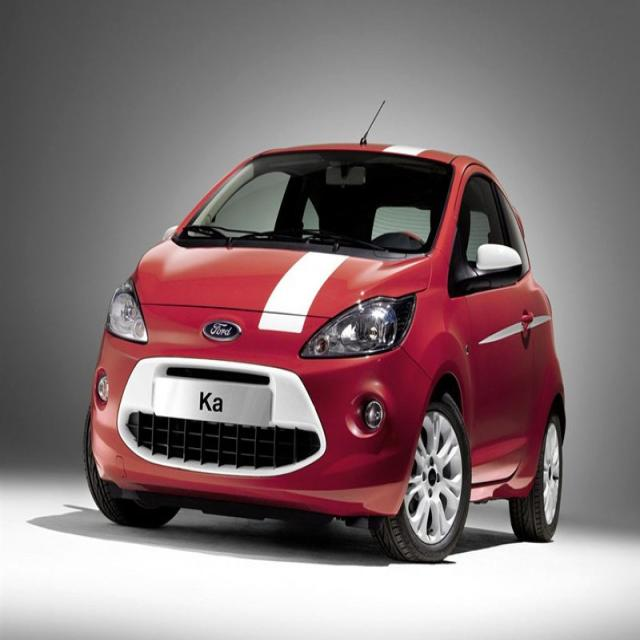front_bumper: (81, 325, 434, 517)
front_glass: (175, 149, 458, 254)
front_left_side_door: (435, 158, 538, 493)
front_left_side_light: (296, 290, 418, 362)
front_left_side_mirror: (448, 240, 523, 296)
front_right_side_light: (104, 274, 149, 345)
wheel: (374, 380, 473, 566), (507, 394, 563, 542)
